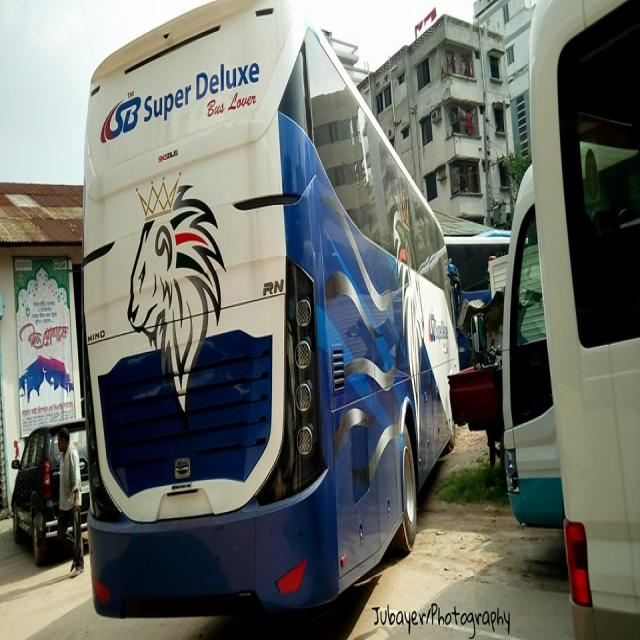bus: (81, 0, 462, 618)
